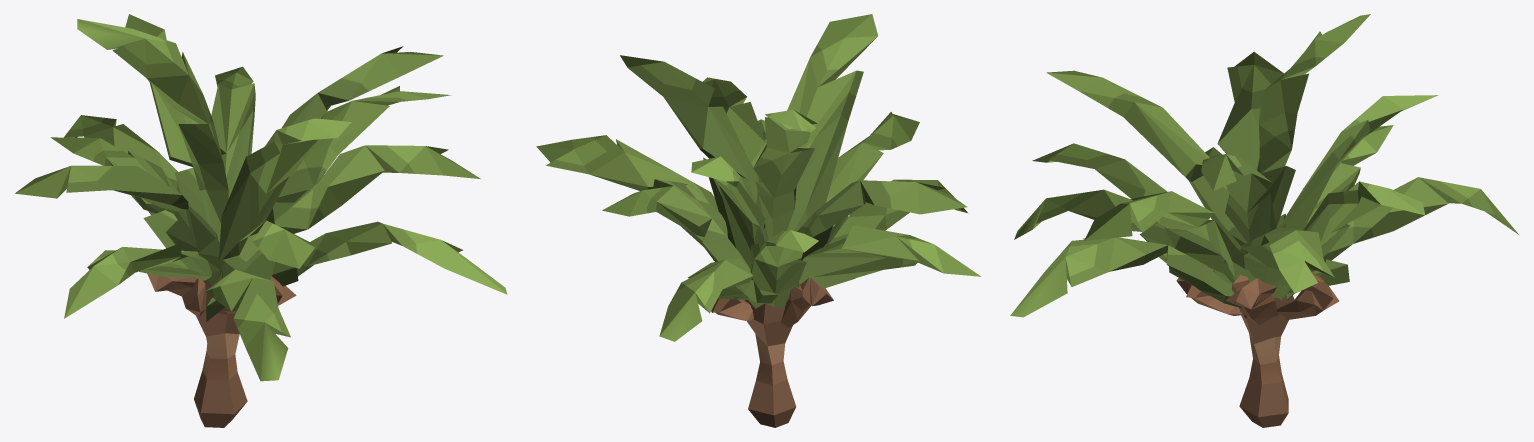
The model's file is SM_Env_Tree_Bush_03.fbx.
The picture shows the model from 3 angles, left to right: view 1: azimuth 30°, elevation 25°; view 2: azimuth 150°, elevation 25°; view 3: azimuth 270°, elevation 25°; orthographic projection. The views are drawn at different scales.
Parts seen in each view (by area): view 1: SM_Env_Tree_Bush_03; view 2: SM_Env_Tree_Bush_03; view 3: SM_Env_Tree_Bush_03.
Boxes of the visible parts, bbox=[...] form: SM_Env_Tree_Bush_03: bbox=[15, 14, 507, 427]; SM_Env_Tree_Bush_03: bbox=[536, 14, 981, 427]; SM_Env_Tree_Bush_03: bbox=[1010, 14, 1518, 427].
Size of the model in its own units: 444 by 358 by 446.
